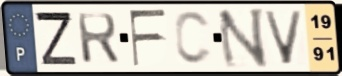C: (172, 9, 215, 68)
F: (127, 8, 169, 69)
N: (215, 6, 270, 70)
R: (75, 11, 122, 66)
V: (261, 9, 306, 67)
Z: (31, 10, 79, 67)
